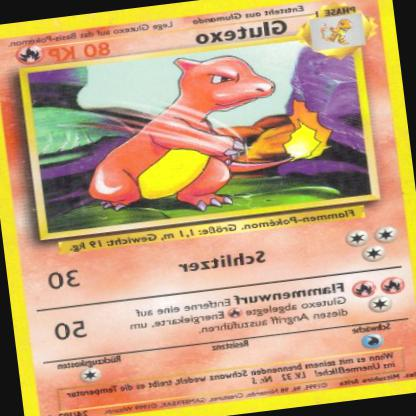Charmeleon: (73, 41, 330, 225)
